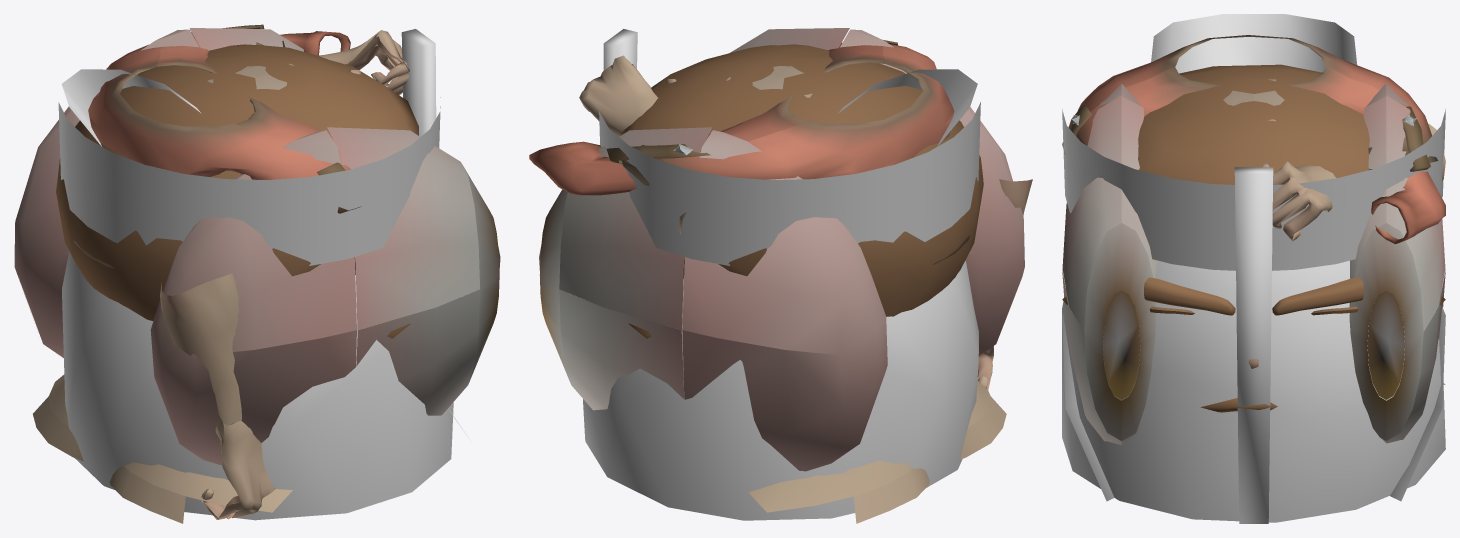
3 renders of one model, left to right at view 1: azimuth 30°, elevation 25°; view 2: azimuth 150°, elevation 25°; view 3: azimuth 270°, elevation 25°, orthographic. The views are drawn at different scales.
Parts seen in each view (by area): view 1: tex:eye, steel, iron, tex:hair1, tex:peasant, tex:hands, tex:skin, team; view 2: tex:eye, steel, iron, tex:hair1, tex:peasant, tex:skin, tex:hands, team; view 3: steel, tex:eye, iron, tex:hair1, team, tex:peasant, tex:hands, tex:skin.
Boxes of the visible parts, left/top/right/bottom form: tex:eye: left=14, top=28, right=500, bottom=465; steel: left=62, top=251, right=453, bottom=520; iron: left=58, top=29, right=440, bottom=265; tex:hair1: left=56, top=44, right=418, bottom=338; tex:peasant: left=73, top=24, right=361, bottom=268; tex:hands: left=160, top=30, right=409, bottom=519; tex:skin: left=33, top=63, right=293, bottom=523; team: left=61, top=69, right=471, bottom=441; tex:eye: left=539, top=28, right=1024, bottom=471; steel: left=583, top=260, right=978, bottom=520; iron: left=598, top=29, right=980, bottom=265; tex:hair1: left=620, top=44, right=983, bottom=338; tex:peasant: left=529, top=40, right=969, bottom=264; tex:skin: left=726, top=66, right=1006, bottom=523; tex:hands: left=579, top=55, right=1032, bottom=389; team: left=838, top=69, right=977, bottom=146; steel: left=1062, top=260, right=1445, bottom=522; tex:eye: left=1062, top=84, right=1445, bottom=445; iron: left=1062, top=109, right=1445, bottom=523; tex:hair1: left=1062, top=64, right=1445, bottom=412; team: left=1062, top=14, right=1445, bottom=501; tex:peasant: left=1062, top=35, right=1445, bottom=244; tex:hands: left=1263, top=123, right=1445, bottom=241; tex:skin: left=1223, top=79, right=1445, bottom=384.
Size of the model in its own units: 65535 by 65535 by 65535.
